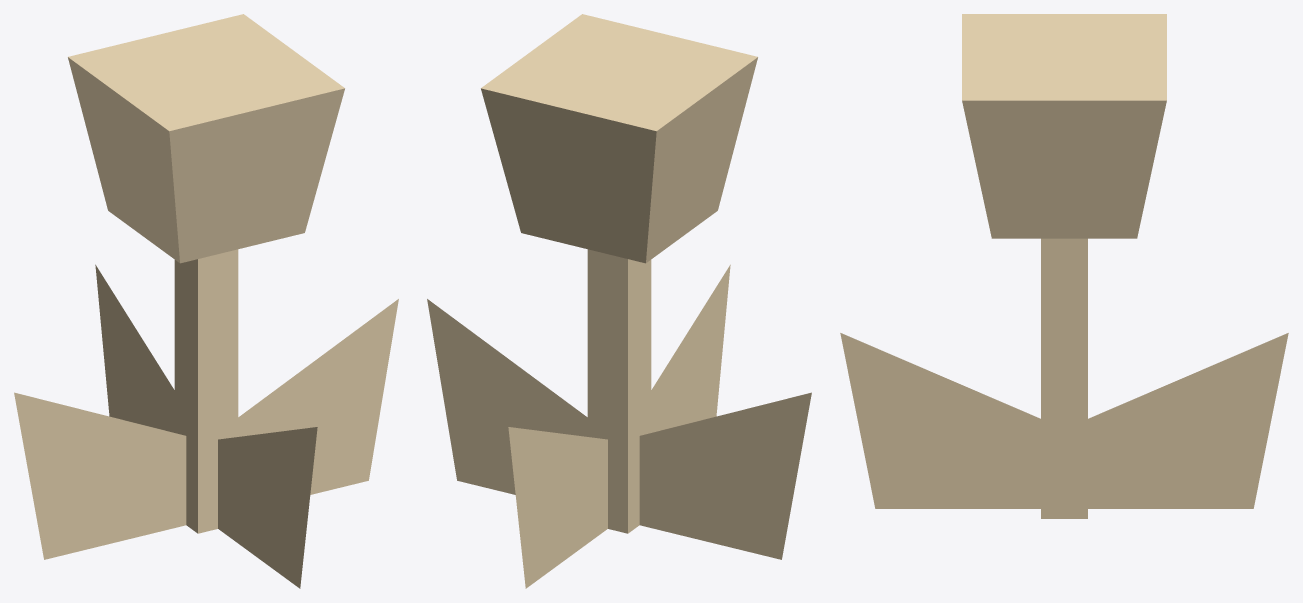
The model's file is naturePack_flat_005.fbx.
The picture shows the model from 3 angles, left to right: view 1: azimuth 30°, elevation 25°; view 2: azimuth 150°, elevation 25°; view 3: azimuth 270°, elevation 25°; orthographic projection.
Visible parts, largest first — view 1: naturePack_flat_005; view 2: naturePack_flat_005; view 3: naturePack_flat_005.
Boxes of the visible parts, x1,y1,x2,y2 form: naturePack_flat_005: [14, 14, 398, 588]; naturePack_flat_005: [427, 14, 811, 588]; naturePack_flat_005: [840, 14, 1288, 518].
Bounding box in the file's own units: 48.59 × 54 × 48.59.
